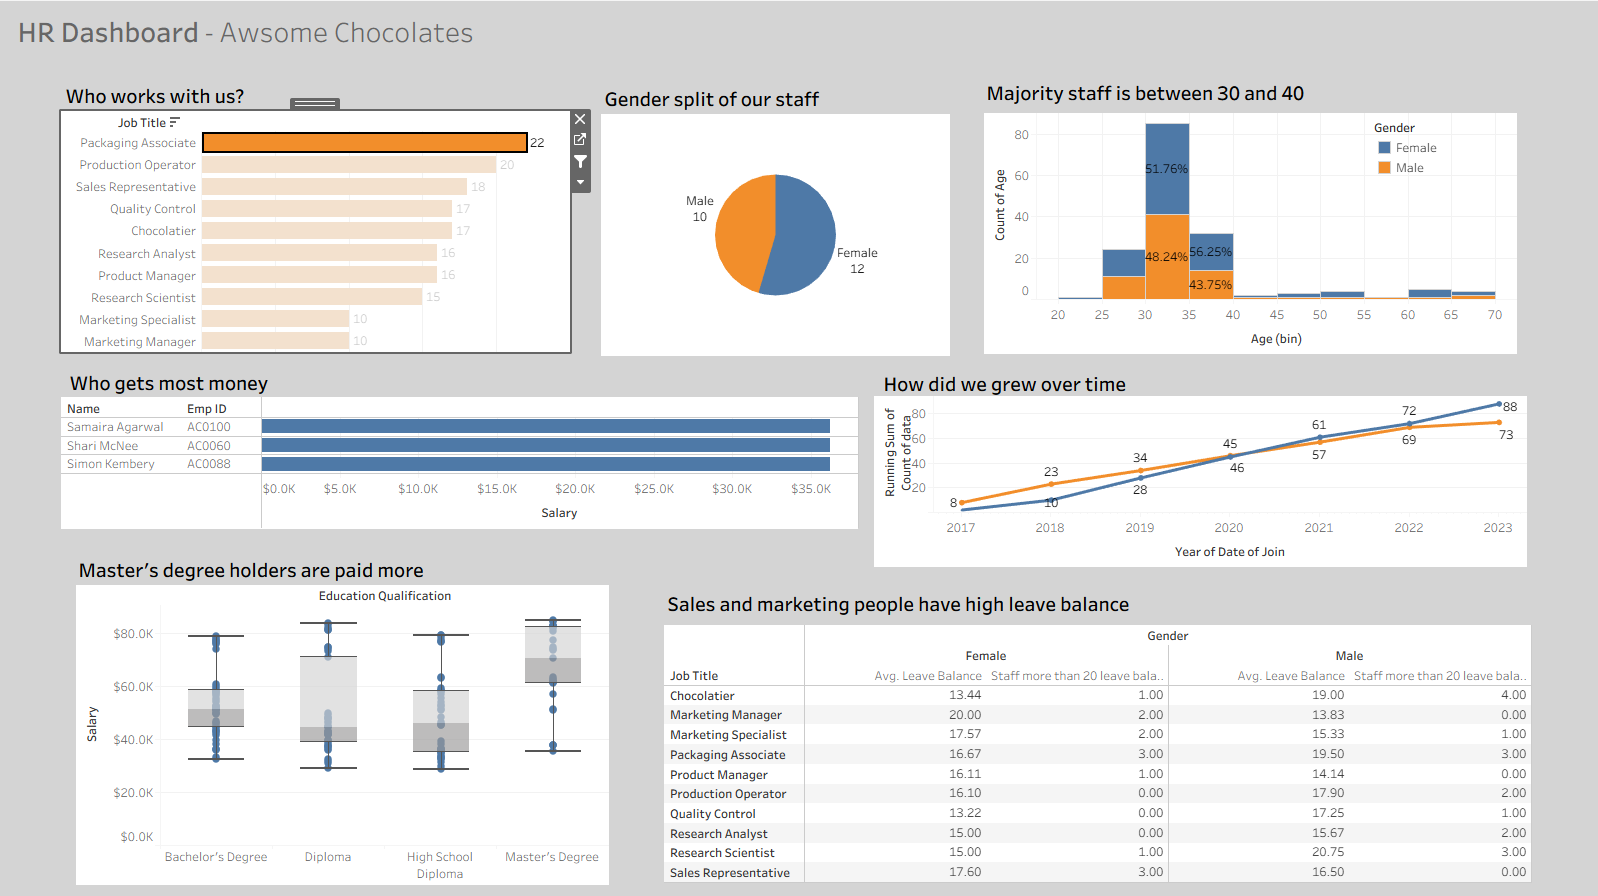

This screenshot's page, from the dashboard's own definition file:
{"tool":"tableau","page":{"name":"Dashboard 1","canvas":[1600,900],"ordinal":0},"visuals":[{"type":"text","box":[985,76,406,30]},{"type":"text","box":[64,79,247,30]},{"type":"text","box":[603,82,220,30]},{"type":"worksheet","title":"Sheet 1","mark":"Automatic","rows":["Job Title"],"cols":["data_71220D77B4004ACCAA31B8B370B211B8"],"box":[62,110,509,241]},{"type":"worksheet","title":"Sheet 3","mark":"Automatic","rows":["Age"],"cols":["Age (bin)"],"box":[985,112,533,241]},{"type":"worksheet","title":"Sheet 2","mark":"Pie","box":[602,113,349,242]},{"type":"legend","title":"Sheet 3","param":"[federated.1htgor8030d5x91b7xcdv0vik61w].[none:Gender:nk]","box":[1375,118,140,58]},{"type":"text","box":[68,366,220,30]},{"type":"text","box":[882,367,350,30]},{"type":"worksheet","title":"Sheet 7","mark":"Automatic","rows":["data_71220D77B4004ACCAA31B8B370B211B8"],"cols":["Date of Join"],"box":[875,395,653,171]},{"type":"worksheet","title":"Sheet 5","mark":"Automatic","rows":["Name","Emp ID"],"cols":["Salary"],"box":[62,396,798,132]},{"type":"text","box":[77,553,412,30]},{"type":"worksheet","title":"Sheet 6","mark":"Circle","rows":["Salary"],"cols":["Education Qualification"],"box":[77,584,533,300]},{"type":"text","box":[666,587,500,30]},{"type":"worksheet","title":"Sheet 9","mark":"Automatic","rows":["Job Title"],"cols":["Gender"],"box":[665,624,868,258]}]}

Visuals, with their boxes in screenshot pixels (x1, y1, x2, y2), scaled from the page's 1600x900 canvas onto the 1598x896 screenshot:
text: 984 76 1389 106
text: 64 79 311 109
text: 602 82 822 112
"Sheet 1" worksheet: 62 110 570 349
"Sheet 3" worksheet: 984 112 1516 351
"Sheet 2" worksheet (Pie marks): 601 112 950 353
"Sheet 3" legend: 1373 117 1513 175
text: 68 364 288 394
text: 881 365 1230 395
"Sheet 7" worksheet: 874 393 1526 563
"Sheet 5" worksheet: 62 394 859 526
text: 77 551 488 580
"Sheet 6" worksheet (Circle marks): 77 581 609 880
text: 665 584 1165 614
"Sheet 9" worksheet: 664 621 1531 878
